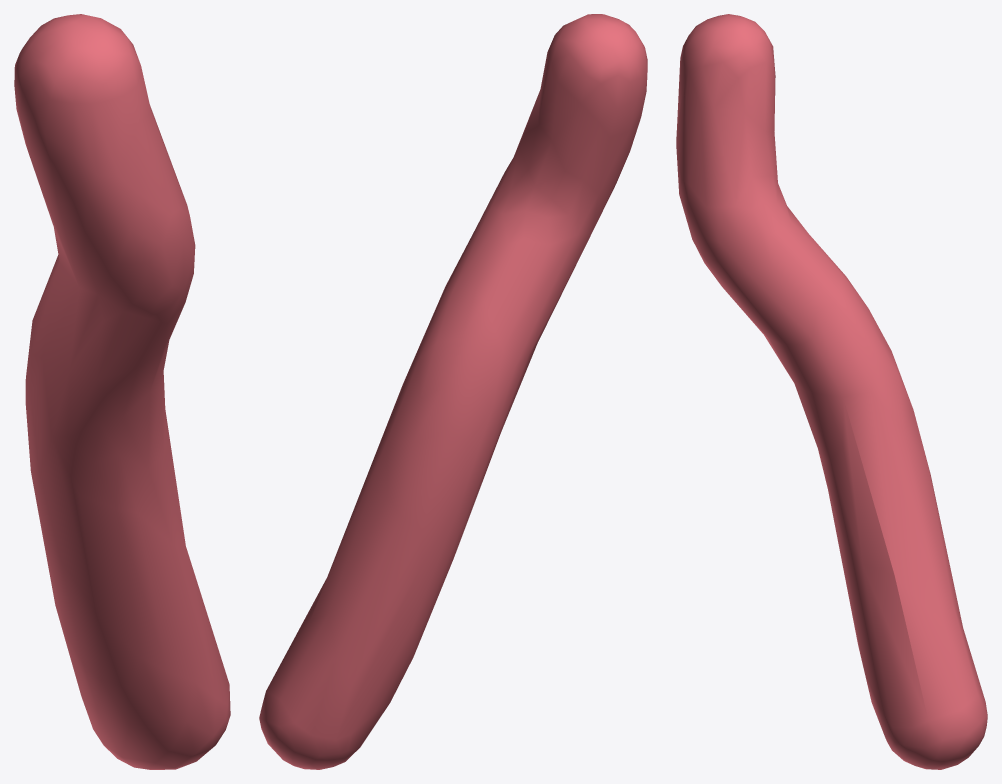
The model's file is fma50369_fj5027.glb.
The picture shows the model from 3 angles, left to right: view 1: azimuth 30°, elevation 25°; view 2: azimuth 150°, elevation 25°; view 3: azimuth 270°, elevation 25°; orthographic projection. The views are drawn at different scales.
Parts seen in each view (by area): view 1: FMA50369_FJ5027; view 2: FMA50369_FJ5027; view 3: FMA50369_FJ5027.
Boxes of the visible parts, left/top/right/bottom form: FMA50369_FJ5027: left=14, top=14, right=230, bottom=769; FMA50369_FJ5027: left=259, top=14, right=647, bottom=769; FMA50369_FJ5027: left=676, top=14, right=987, bottom=769.
Bounding box in the file's own units: 0.00528 × 0.0135 × 0.0057.
